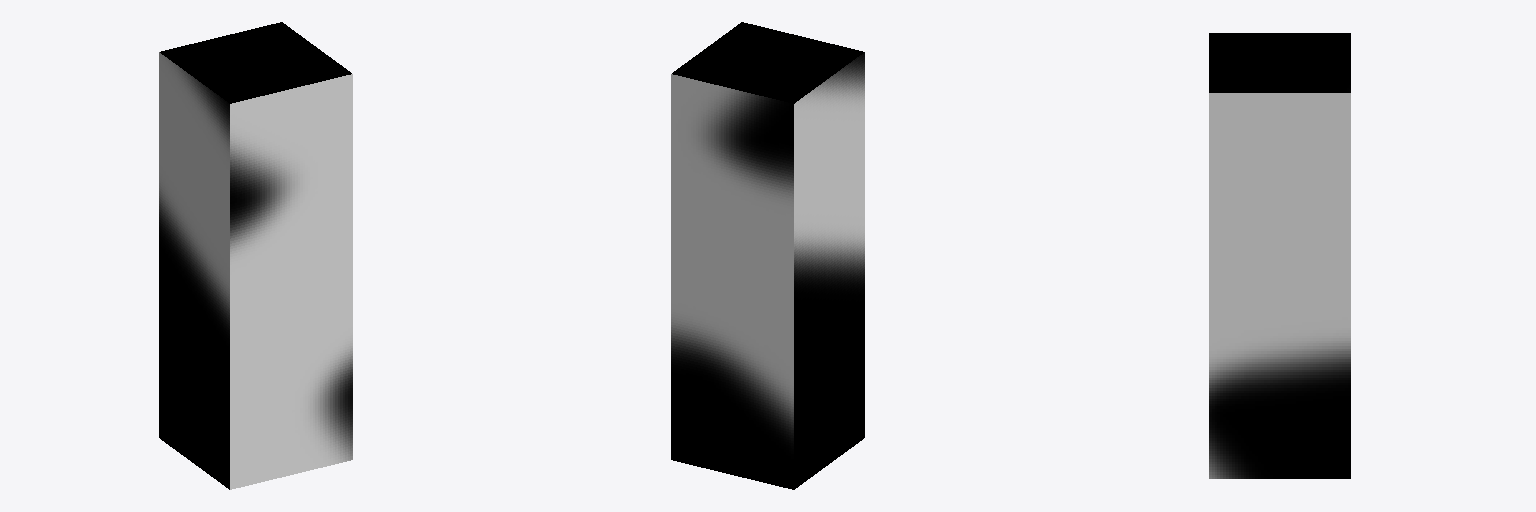
The picture shows the model from 3 angles: view 1: azimuth 30°, elevation 25°; view 2: azimuth 150°, elevation 25°; view 3: azimuth 270°, elevation 25°; orthographic projection.
Visible parts, largest first — view 1: 左すね; view 2: 左すね; view 3: 左すね.
Part boxes in pixels (x1,y1,x2,y2): 左すね: (159, 22, 352, 489); 左すね: (671, 22, 864, 489); 左すね: (1209, 33, 1350, 478).
Bounding box in the file's own units: 2 × 6 × 2.
Materials: 1 (1 with a texture image).